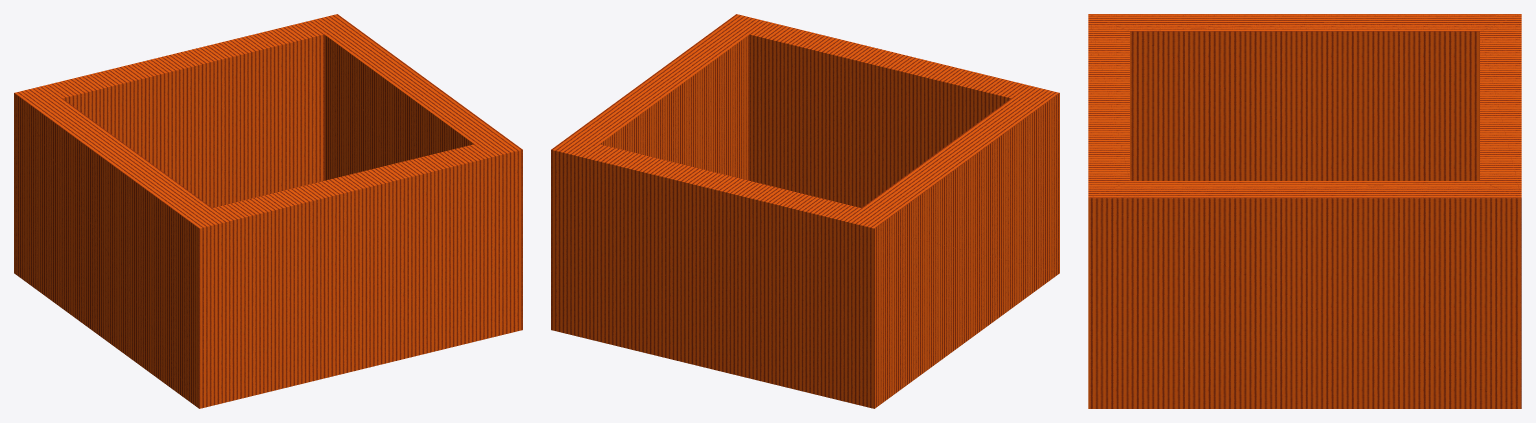
File: mur2.glb
3 renders of one model, left to right at view 1: azimuth 30°, elevation 25°; view 2: azimuth 150°, elevation 25°; view 3: azimuth 270°, elevation 25°, orthographic. The views are drawn at different scales.
Parts seen in each view (by area): view 1: Cube; view 2: Cube; view 3: Cube.
Part boxes in pixels (x1,y1,x2,y2): Cube: (14,14,522,408); Cube: (551,14,1059,408); Cube: (1088,14,1521,408).
Bounding box in the file's own units: 9.94 × 5.3 × 9.87.
Materials: 1 (1 with a texture image).
